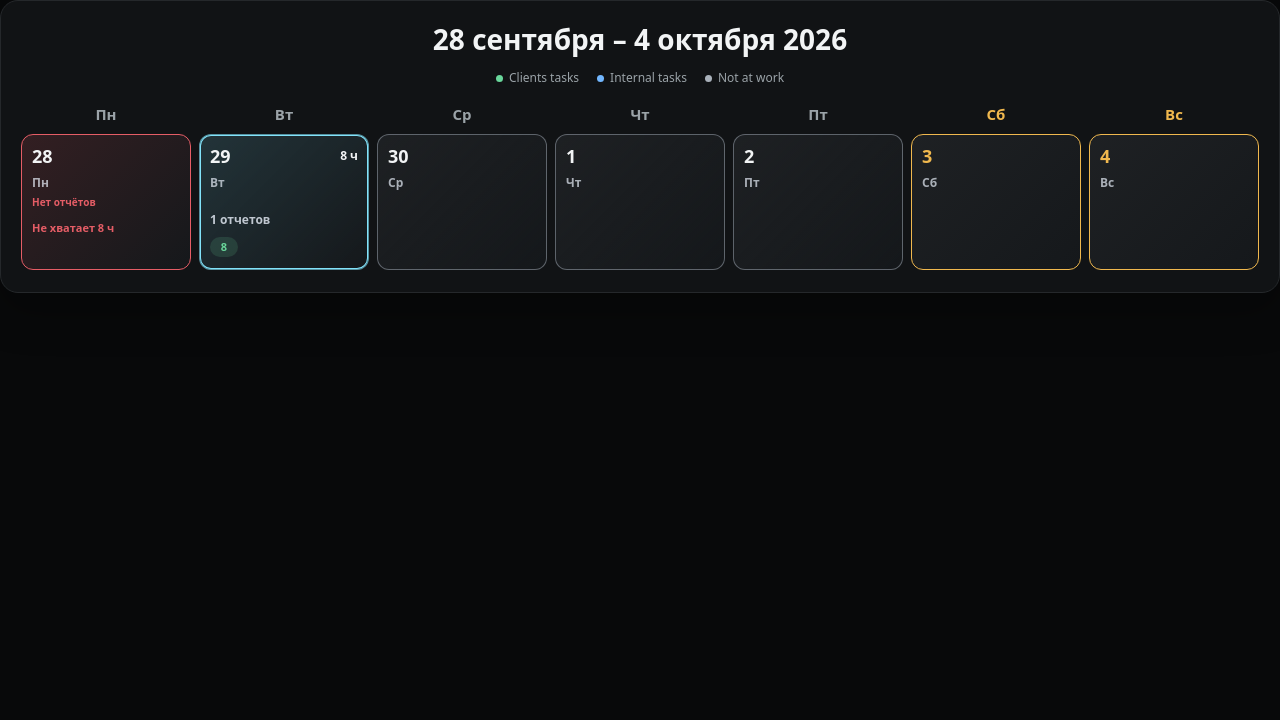
Scenario: week calendar hour warnings › does not show today's deficit summary once the selected employee reaches eight hours
Click the button named "Все отчёты за 29: 1" at (284, 157), box x1=210 y1=147 x2=358 y2=166
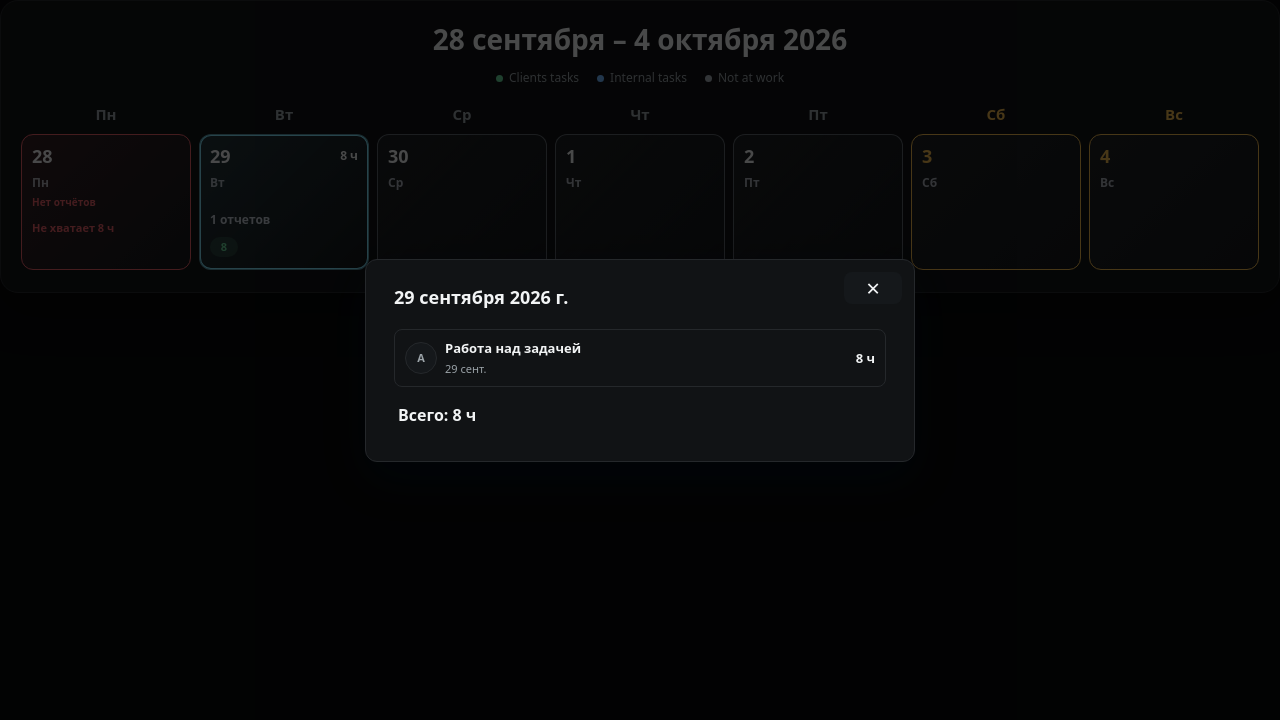
Expected: the dialog is shown, x1=365 y1=258 x2=915 y2=462
